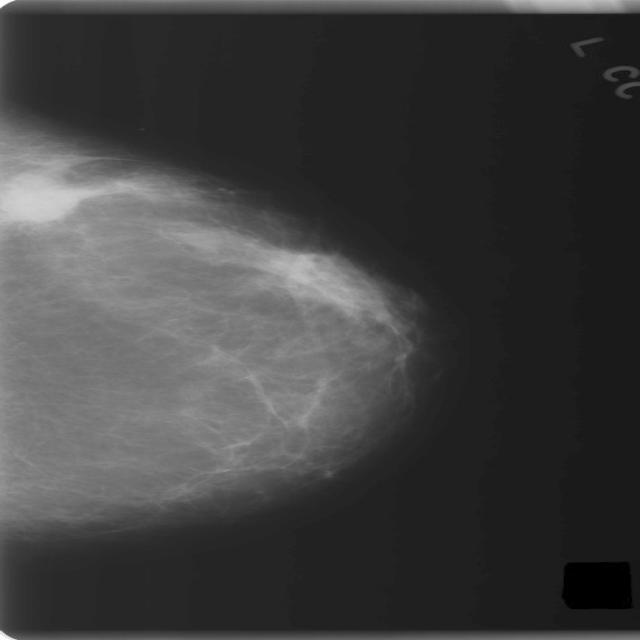tumour: (0, 168, 84, 222)
